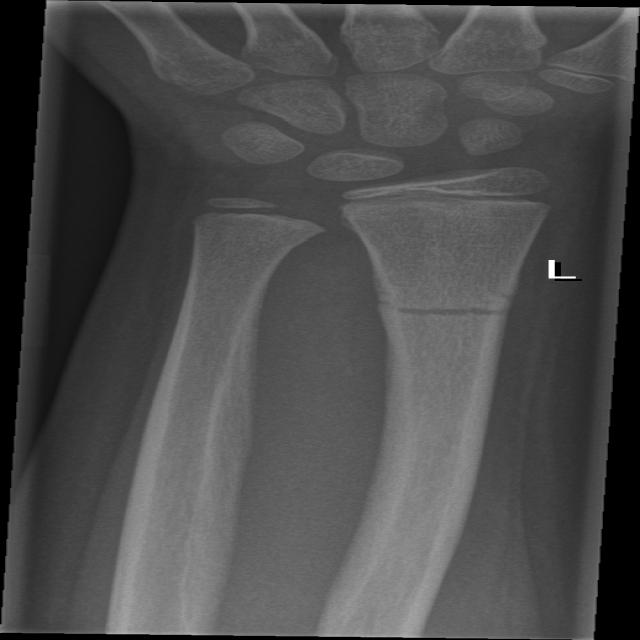radius fracture: (364, 256, 528, 380)
